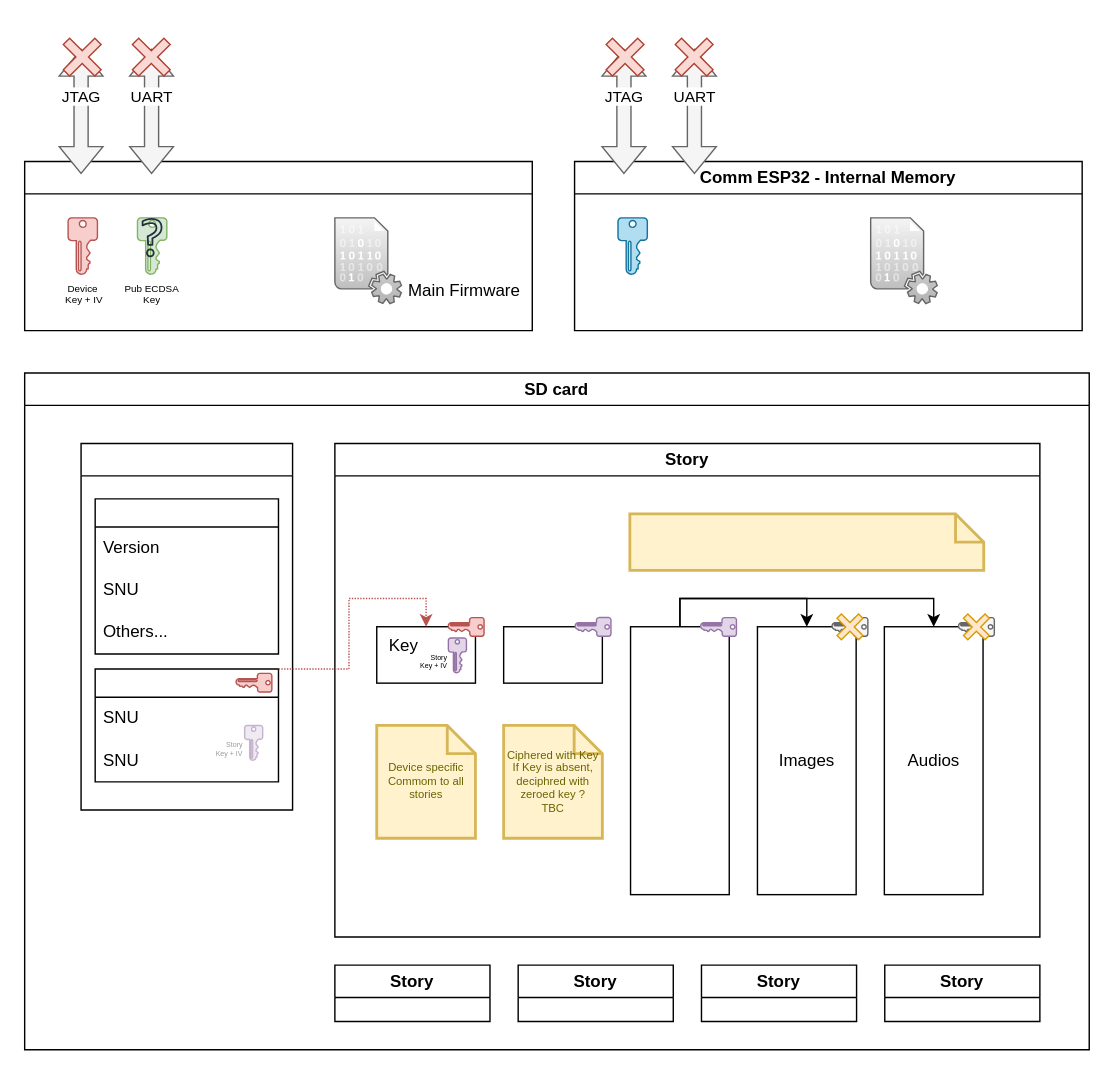
Image size: 1114x1074. Some labels were removed from this diagram. The box of each missing label's shape, as (x1, y1, x2, y2) in pixels:
.mdf: (80, 442, 293, 810)
All story files are identical If files are ciphered, they are with STORY Key: (628, 512, 984, 571)
Ciphered: (94, 668, 278, 782)
Comm Firmware: (869, 216, 937, 304)
Info: (502, 625, 602, 683)
Main ESP32 - Internal Memory: (23, 160, 532, 331)
Plain: (94, 497, 278, 654)
Scripts: (629, 625, 729, 895)
Wifi Keys....: (617, 216, 647, 274)
